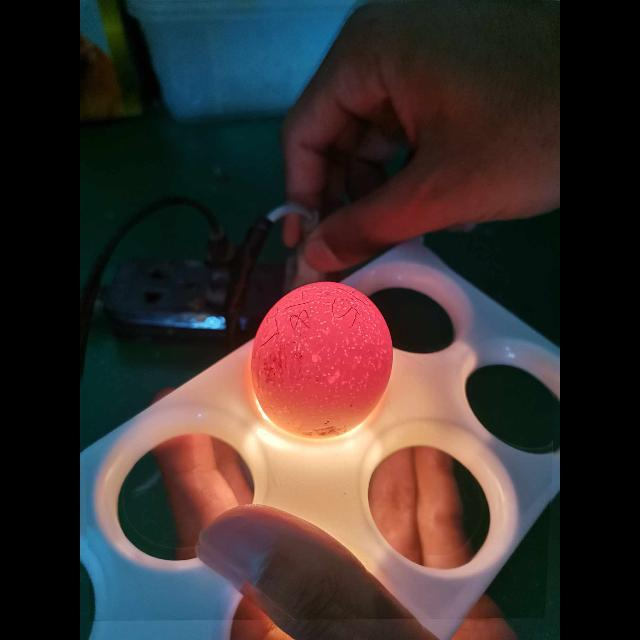Infertile: (246, 281, 394, 444)
